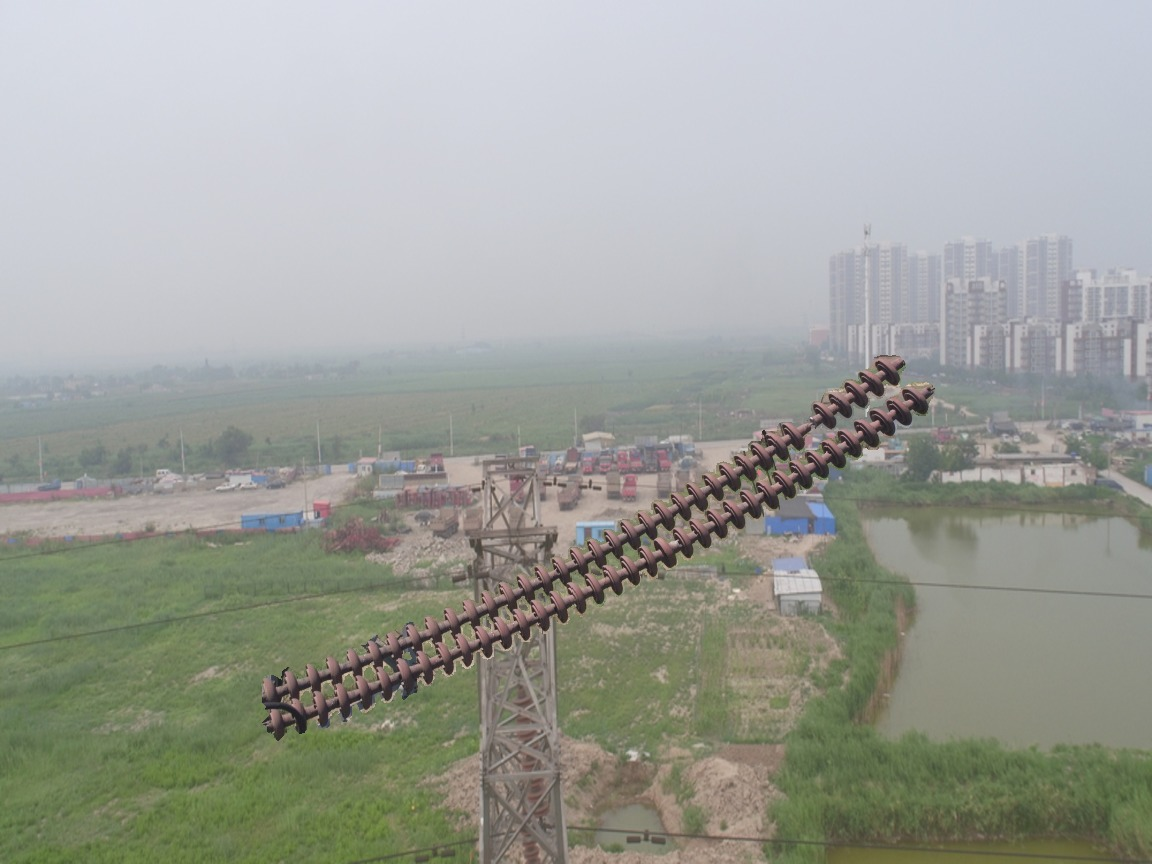defect: (777, 401, 838, 452)
